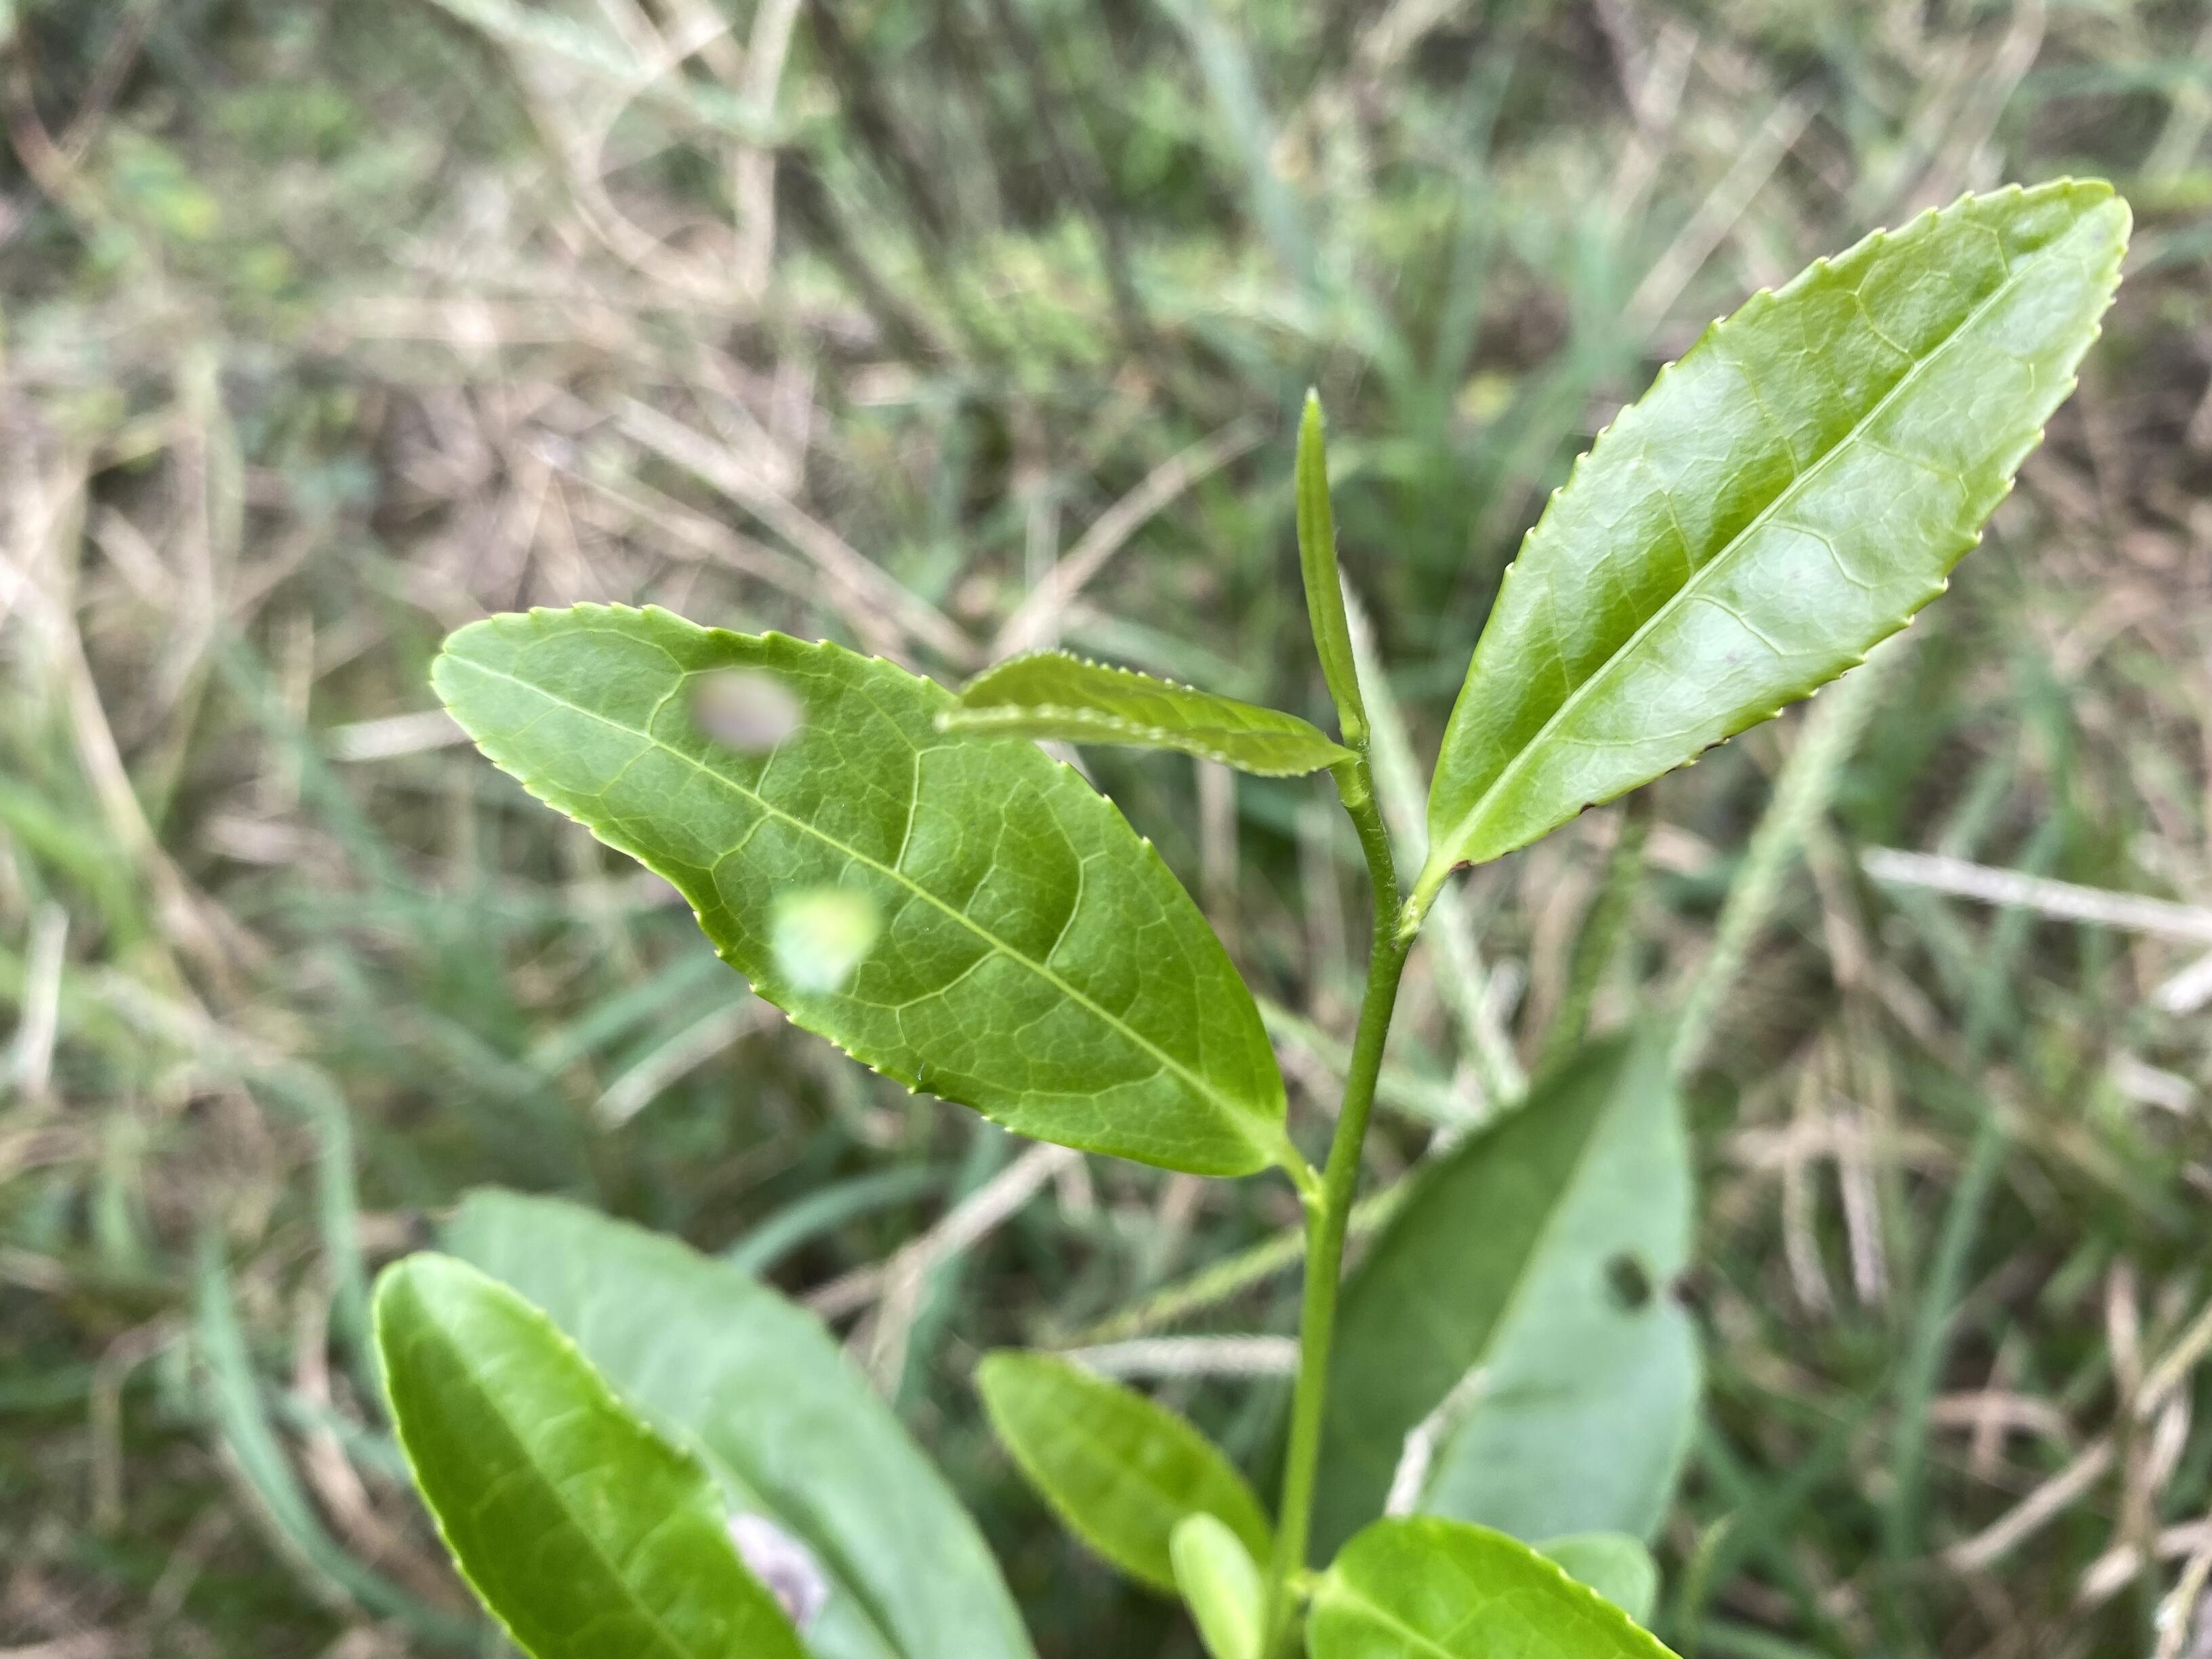chabing_high: (430, 598, 1292, 1175)
healthy: (1421, 174, 2137, 875)
